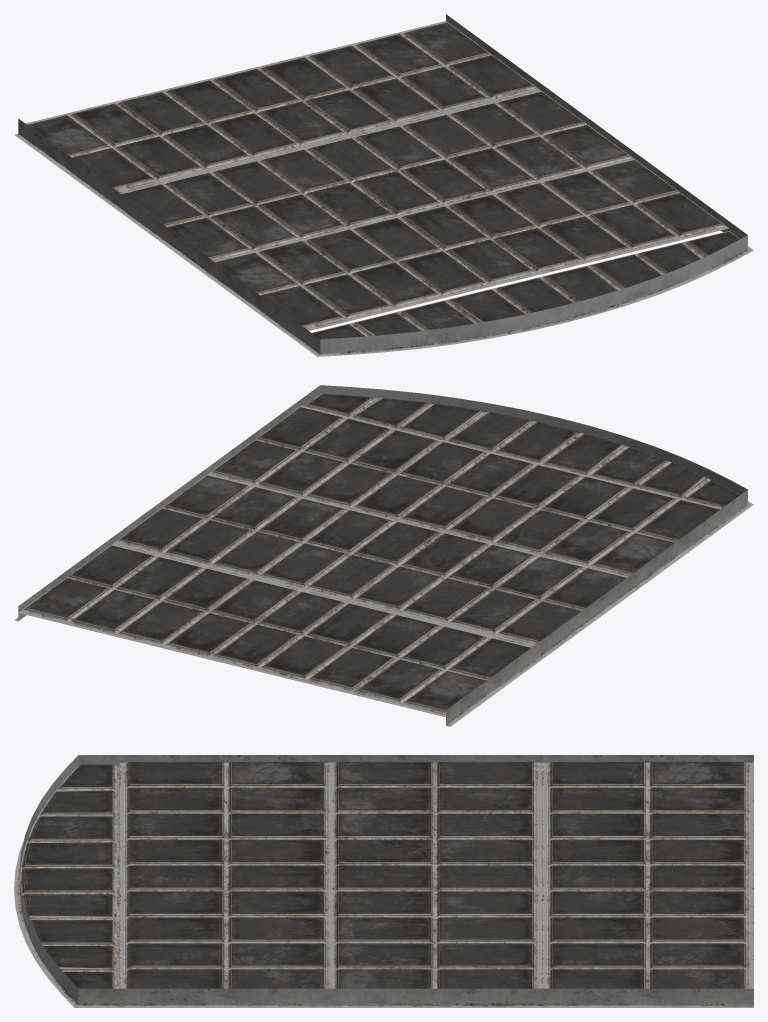
Rendered from window_tall_large_04.gltf.
3 views of the same model, one above another, from view 1: azimuth 30°, elevation 25°; view 2: azimuth 150°, elevation 25°; view 3: azimuth 270°, elevation 25° (orthographic). The views are drawn at different scales.
Parts seen in each view (by area): view 1: window_tall_large_04; view 2: window_tall_large_04; view 3: window_tall_large_04.
Part boxes in pixels (x1,y1,x2,y2): window_tall_large_04: (14,14,753,356); window_tall_large_04: (14,385,753,726); window_tall_large_04: (14,755,753,1007).
Size of the model in its own units: 2 by 0.0667 by 2.62.
Materials: 2 (2 with a texture image).
